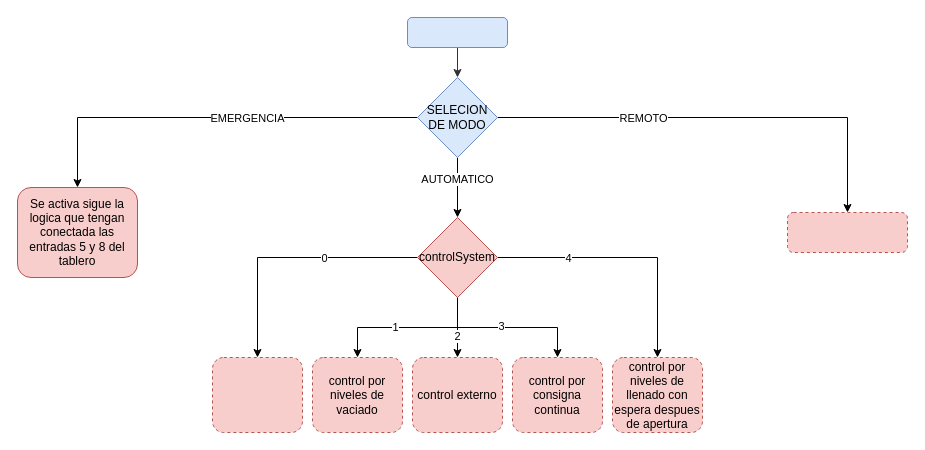
Some shapes in this 925 by 450 pixel diagram are drawn without their labels. The shapes that lost their labels are listed below. From the top down, each one's box as (x1, y1, x2, y2) in pixels, then its label:
(406, 16, 508, 48): OEPRADOR
(786, 212, 908, 252): remoteMode
(212, 356, 302, 432): control por niveles de llenado
